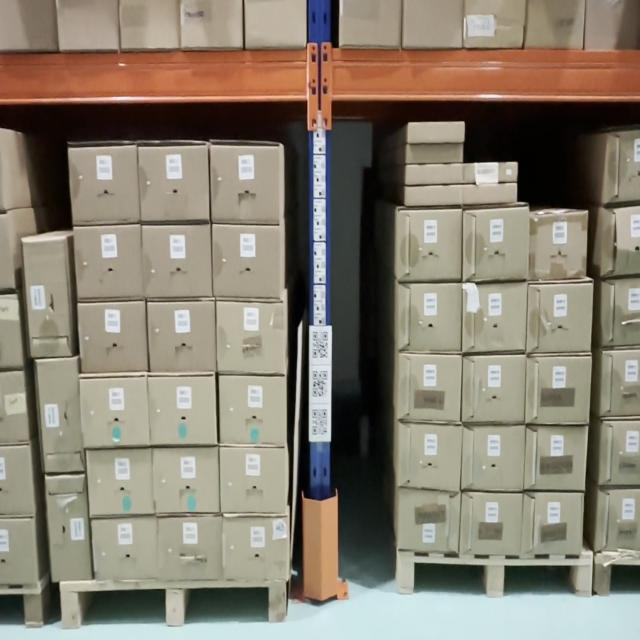box: (69, 149, 139, 225), (80, 377, 148, 454), (141, 144, 207, 223), (75, 222, 143, 298), (209, 148, 277, 222), (218, 302, 286, 373), (37, 361, 80, 473), (25, 243, 68, 354), (147, 302, 214, 371), (149, 379, 217, 446), (87, 452, 153, 520), (213, 228, 277, 297), (145, 226, 211, 292), (78, 301, 145, 365), (47, 476, 89, 577), (530, 286, 591, 354), (464, 286, 524, 355), (220, 376, 286, 438), (462, 215, 528, 277), (155, 447, 218, 509), (529, 359, 590, 423), (224, 451, 286, 513), (398, 216, 460, 278), (462, 363, 526, 422), (400, 290, 460, 352), (399, 489, 456, 554), (93, 521, 160, 575), (400, 359, 461, 418), (225, 520, 287, 577), (462, 500, 526, 555), (462, 431, 522, 489), (532, 214, 584, 280), (527, 434, 588, 488), (162, 521, 220, 577), (398, 430, 459, 483), (529, 497, 584, 550), (406, 187, 460, 205), (408, 150, 462, 167), (465, 186, 516, 204), (407, 124, 464, 139), (461, 165, 516, 180), (406, 170, 464, 182)
